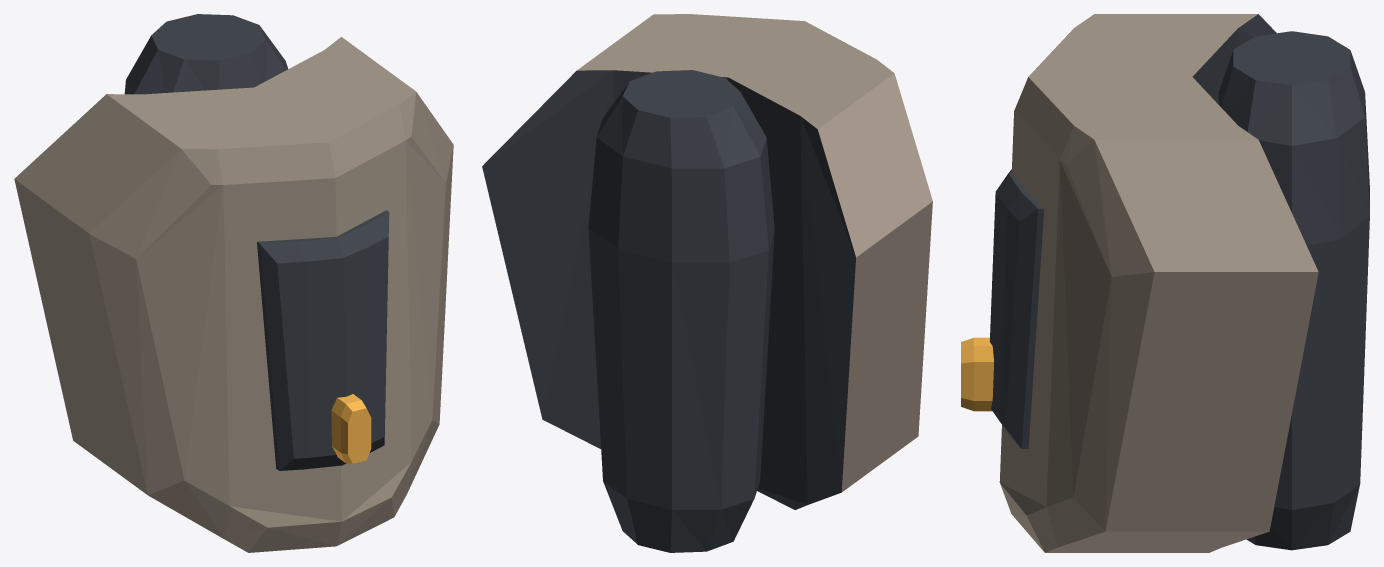
The model's file is forearm_heavy.glb.
3 renders of one model, left to right at view 1: azimuth 30°, elevation 25°; view 2: azimuth 150°, elevation 25°; view 3: azimuth 270°, elevation 25°, orthographic. The views are drawn at different scales.
Parts seen in each view (by area): view 1: forearm_heavy; view 2: forearm_heavy; view 3: forearm_heavy.
Part boxes in pixels (x1,y1,x2,y2): forearm_heavy: (14, 14, 453, 552); forearm_heavy: (482, 14, 932, 552); forearm_heavy: (961, 14, 1369, 552).
Size of the model in its own units: 0.9 by 1 by 0.7972.
